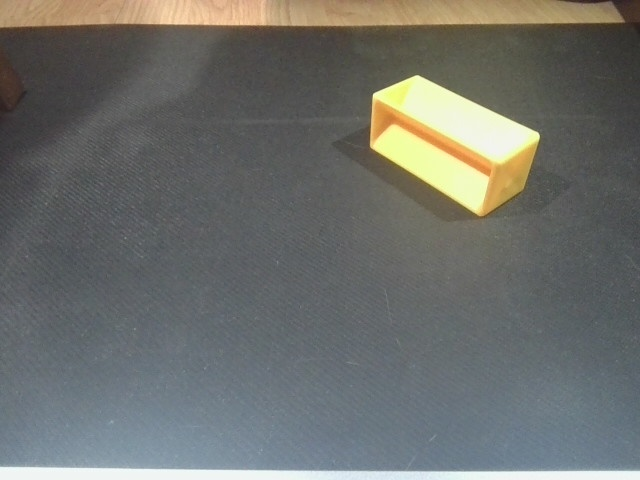YellowSample: (365, 73, 543, 220)
